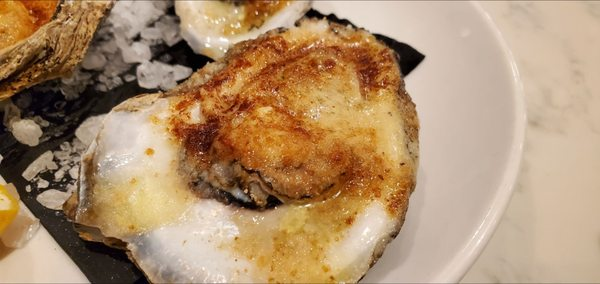soup: (67, 10, 420, 279)
